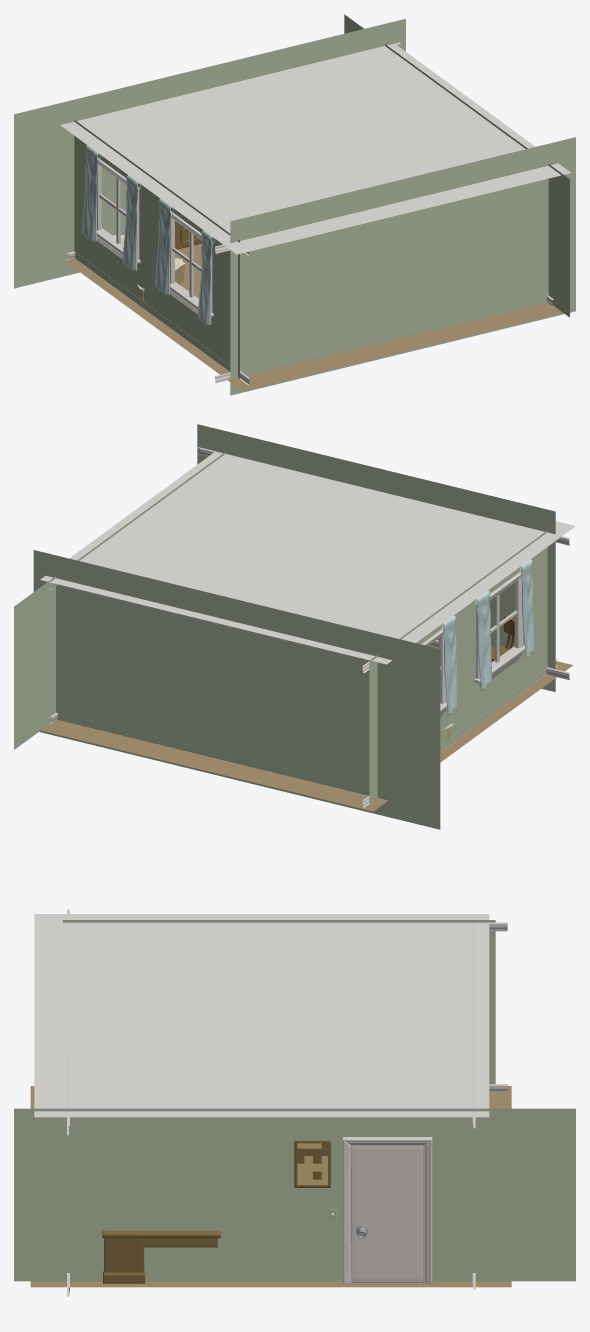
3 views of the same model, one above another, from view 1: azimuth 30°, elevation 25°; view 2: azimuth 150°, elevation 25°; view 3: azimuth 270°, elevation 25° (orthographic). The views are drawn at different scales.
Parts seen in each view (by area): view 1: ceiling, pPlane1, pPlane2, wall2, floor1, wall1, polySurface1576 (×2), polySurface1575 (×2), window, window1, ceilingTrim; view 2: pPlane2, ceiling, pPlane1, wall2, wall1, floor1, polySurface1575 (×2), window1, polySurface1576, window; view 3: ceiling, wall1, door1, floor1, desk, wall2, frame, ceilingTrim1, ceilingTrim.
Boxes of the visible parts, x1,y1,x2,y2 form: ceiling: (60, 44, 570, 254); pPlane1: (230, 137, 575, 395); pPlane2: (14, 18, 405, 288); wall2: (74, 120, 239, 378); floor1: (64, 243, 572, 390); wall1: (344, 14, 569, 317); polySurface1576 (×2): (81, 145, 174, 295); polySurface1575 (×2): (122, 175, 214, 325); window: (97, 157, 140, 264); window1: (170, 211, 213, 317); ceilingTrim: (65, 42, 400, 130); pPlane2: (33, 550, 440, 829); ceiling: (40, 452, 575, 664); pPlane1: (197, 424, 555, 691); wall2: (369, 530, 547, 803); wall1: (14, 436, 247, 749); floor1: (41, 645, 572, 811); polySurface1575 (×2): (441, 559, 534, 714); window1: (474, 571, 524, 687); polySurface1576: (474, 590, 491, 690); window: (421, 627, 447, 716); ceiling: (34, 914, 489, 1117); wall1: (14, 1108, 575, 1281); door1: (343, 1137, 432, 1283); floor1: (30, 1086, 511, 1287); desk: (102, 1230, 220, 1283); wall2: (63, 920, 495, 1084); frame: (294, 1140, 330, 1187); ceilingTrim1: (40, 922, 507, 931); ceilingTrim: (472, 917, 475, 1128).
Size of the model in its own units: 104 by 43.69 by 102.
